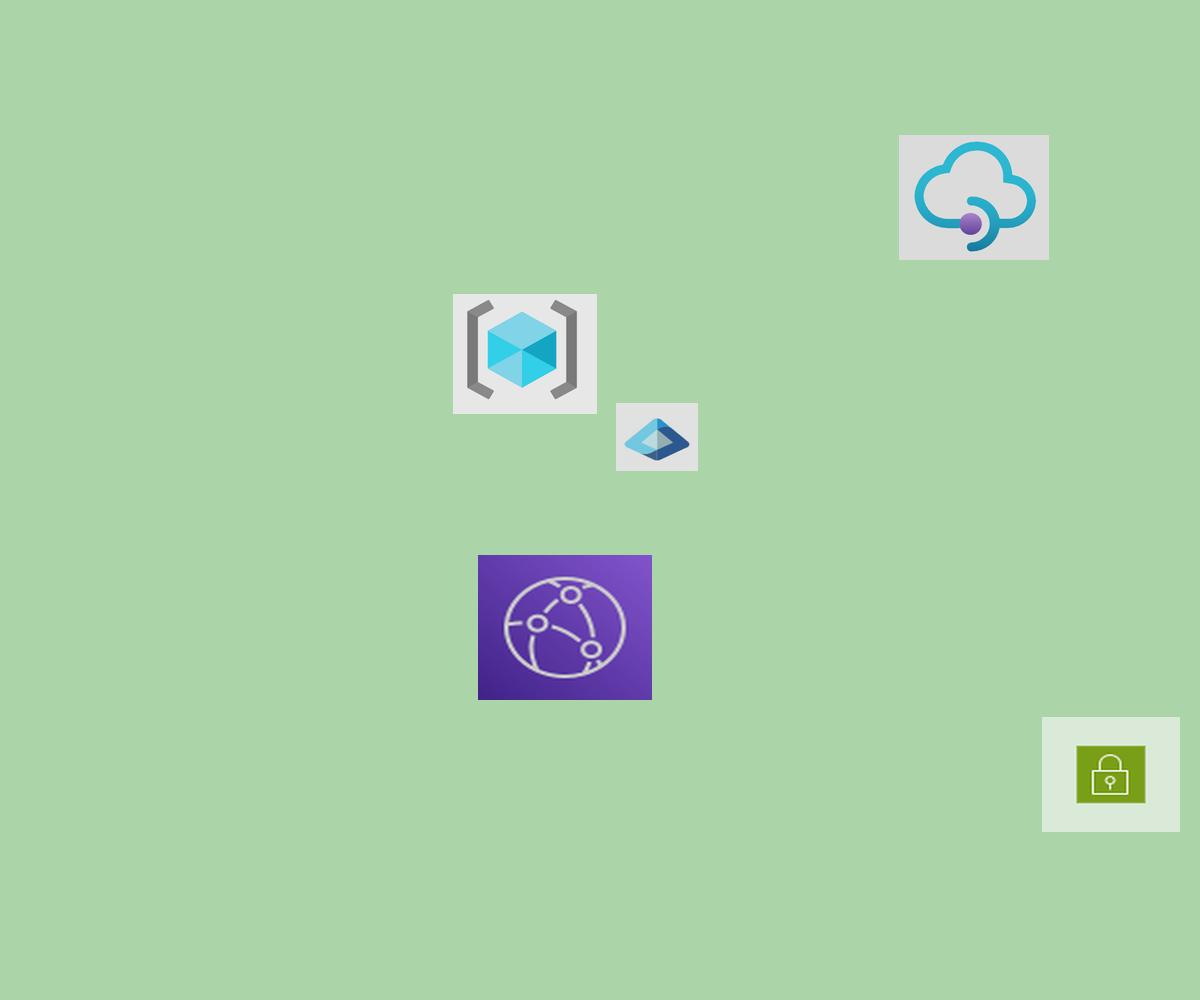AWS-CloudFront: (478, 555, 652, 700)
AWS-Public-subnet: (1042, 717, 1180, 832)
Azure_api_gateway: (899, 135, 1049, 260)
Azure_microsoft_entra: (616, 403, 698, 471)
Azure_resource_group: (453, 294, 597, 414)
